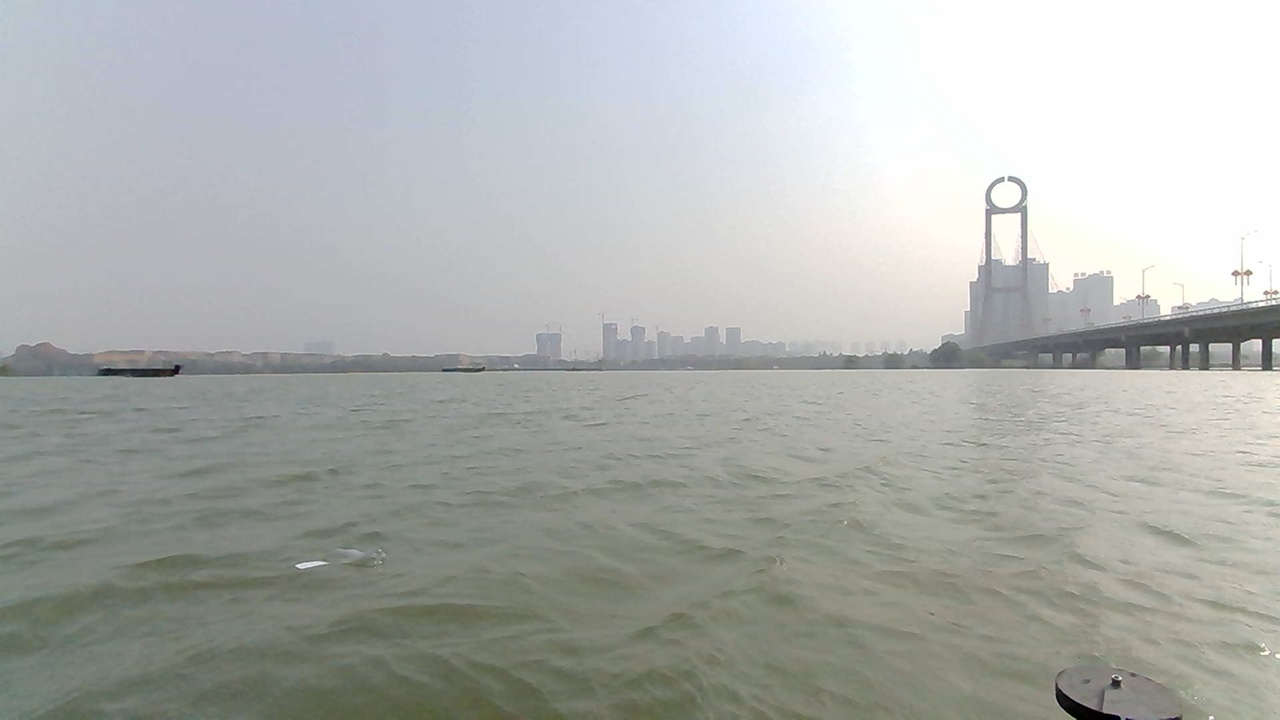bottle: (249, 529, 407, 605)
